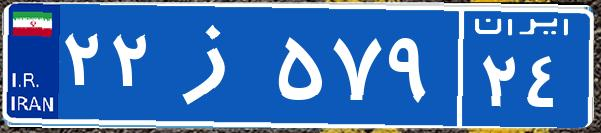2: (57, 26, 110, 107), (475, 38, 525, 113), (110, 28, 158, 105)
4: (525, 38, 570, 115)
5: (273, 28, 330, 110)
7: (330, 28, 385, 110)
9: (385, 28, 445, 110)
ز: (158, 15, 273, 115)
